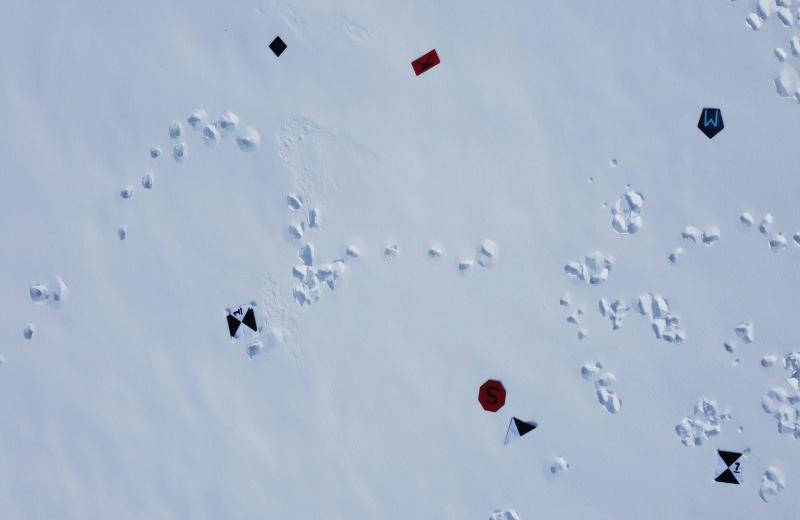Octagon: (468, 368, 512, 419)
Pentagon: (690, 97, 732, 142)
Rectangle: (400, 44, 449, 86)
Square: (262, 27, 294, 64)
